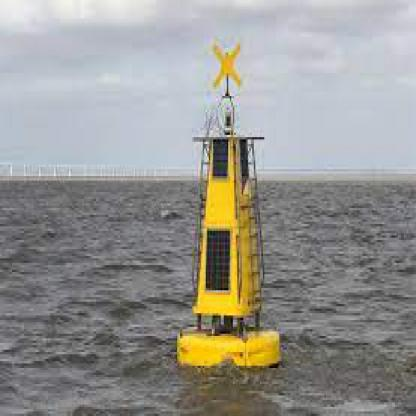buoy: (164, 32, 288, 382)
